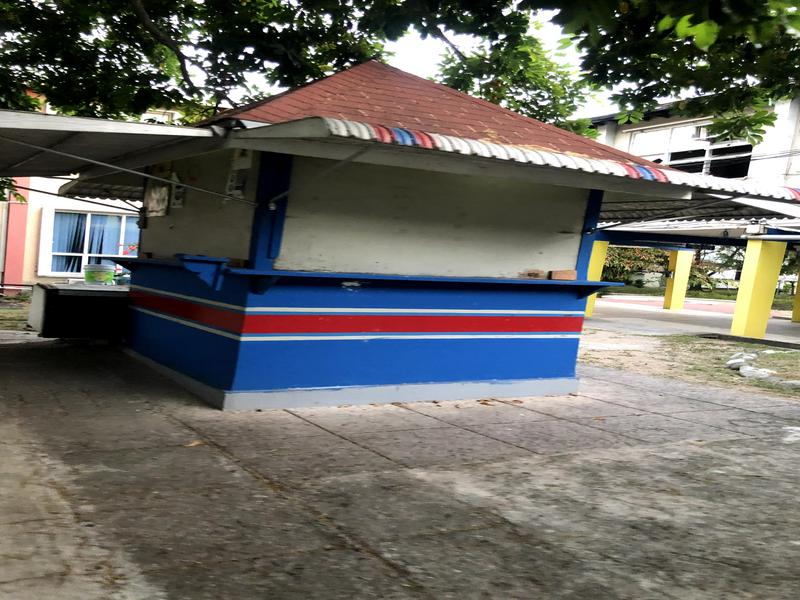18.0050609_-76.7496662_auntyjackie: (118, 51, 637, 408)
